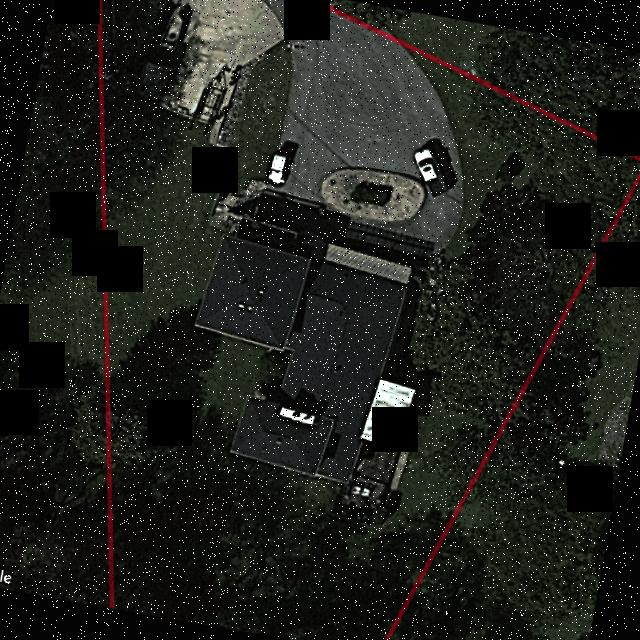Driveway: (260, 0, 463, 250), (158, 0, 285, 148)
House: (195, 234, 417, 481)
Other: (335, 440, 399, 526)
